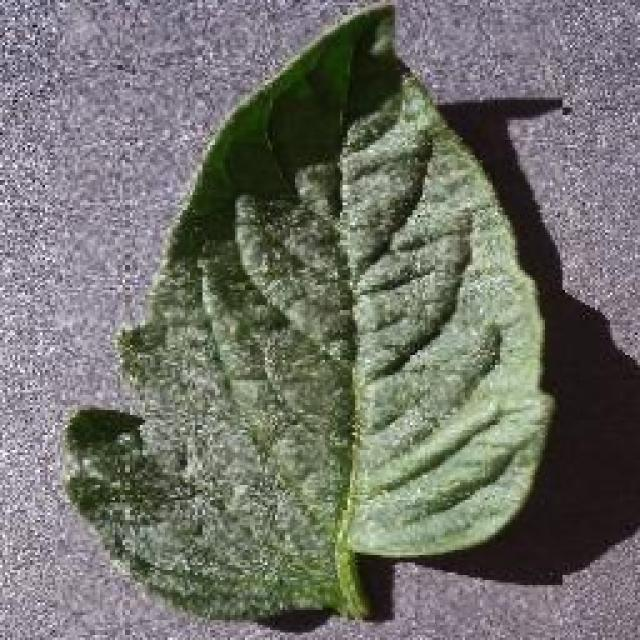Healthy: (55, 0, 563, 638)
